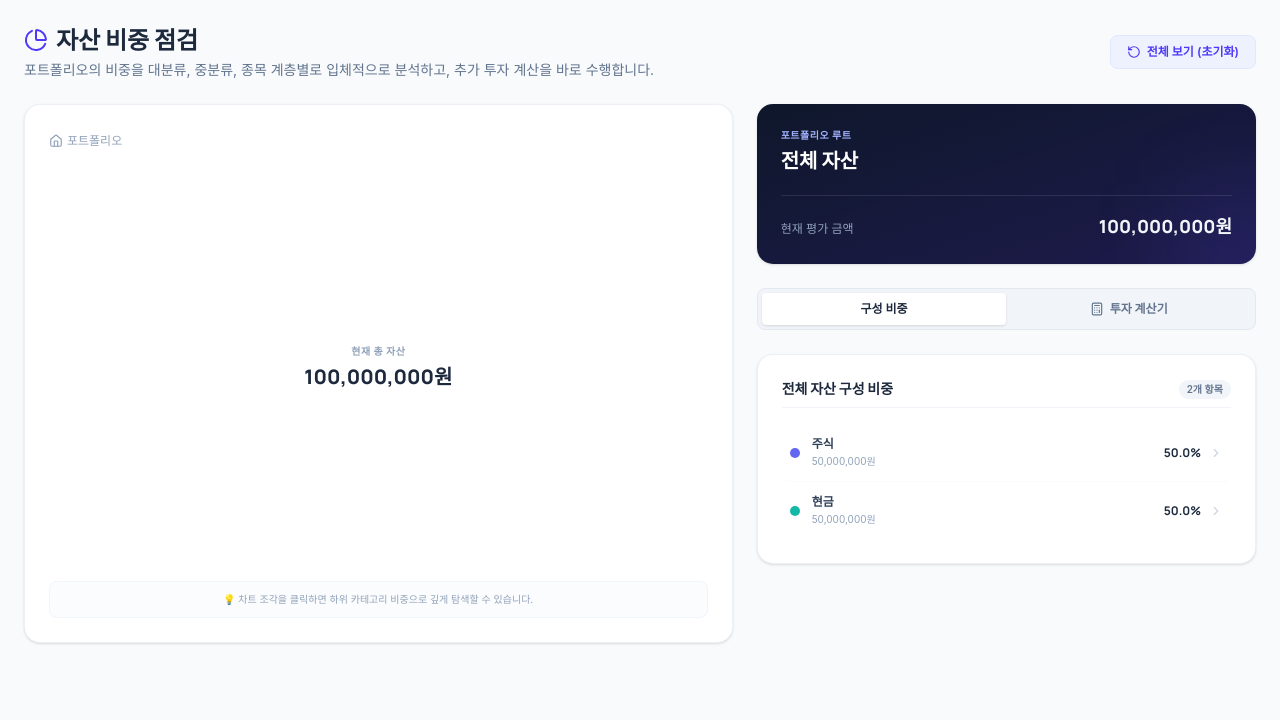
Test: RatioCheckPage › Breadcrumb 클릭 시 상위 수준으로 정상적으로 복구된다
Note: '주식' 클릭하여 중분류 진입
What coordinates should you click on to do the following:
click the text "주식"
I would click on:
 (823, 444)
Its box is [812, 436, 834, 451].
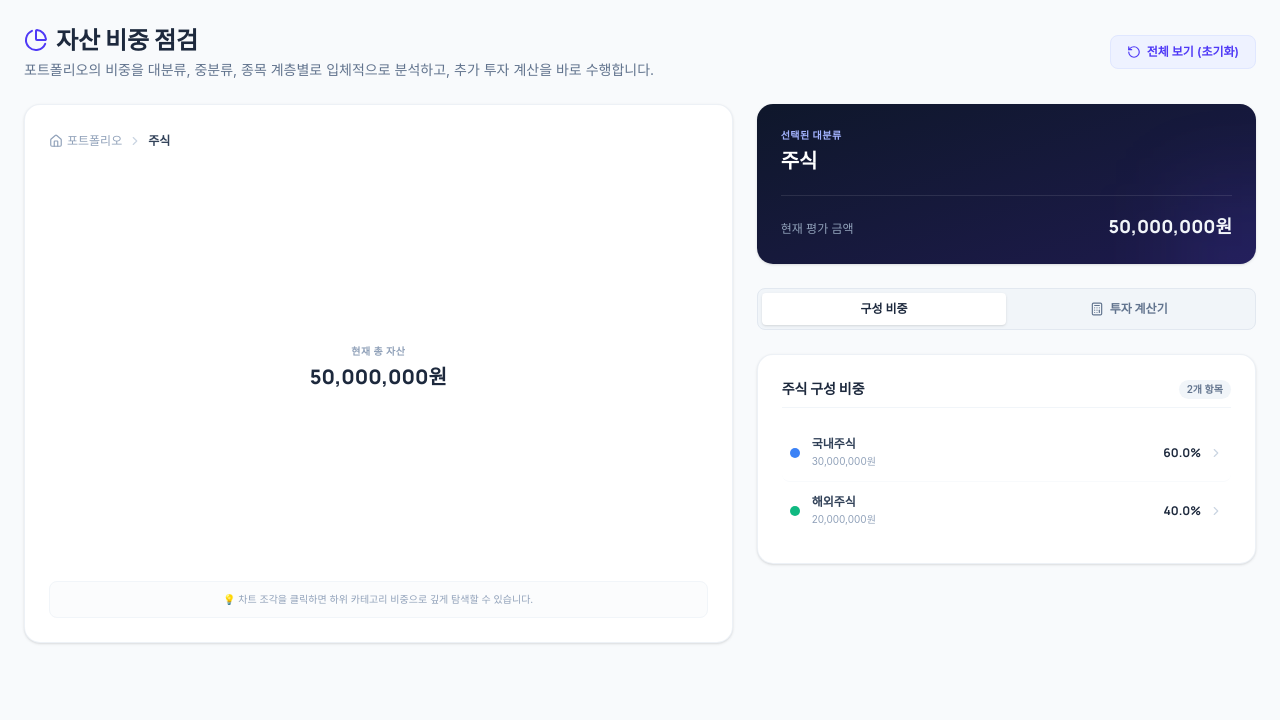
Check: the button "현금" is gone
Note: Breadcrumb의 '포트폴리오' 클릭하여 최상위로 돌아감
What coordinates should you click on to do the following:
click the button "포트폴리오"
I would click on:
 (86, 141)
Its box is [49, 133, 122, 149].
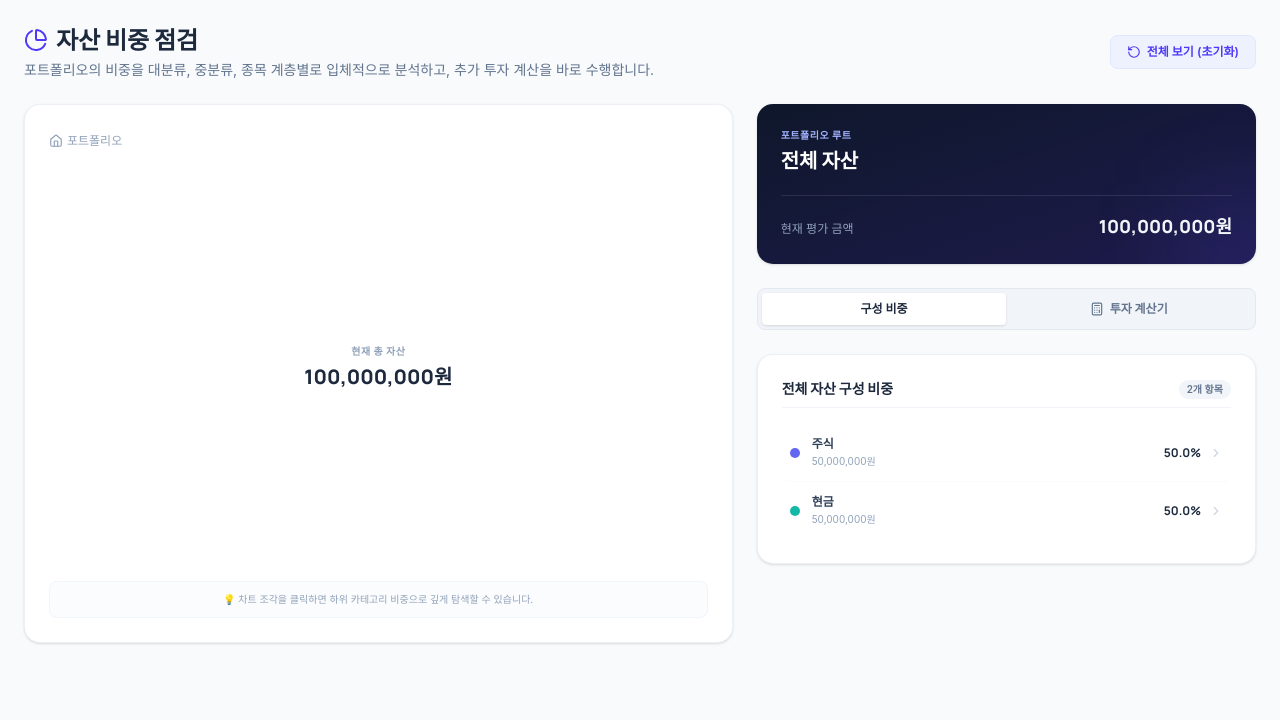
Check: the text "현금" is shown, box [812, 494, 834, 509]
